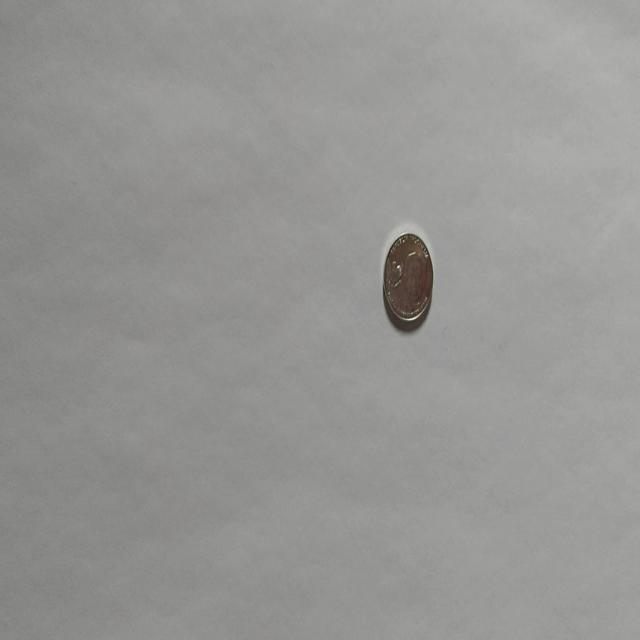seratus rupiah: (382, 230, 434, 330)
